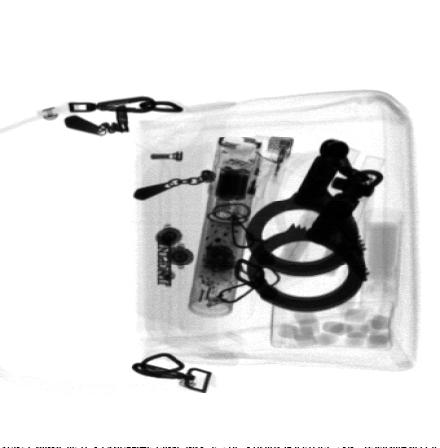Baton: (188, 135, 261, 319)
HandCuffs: (243, 138, 383, 311)
Lighter: (239, 135, 292, 225)
